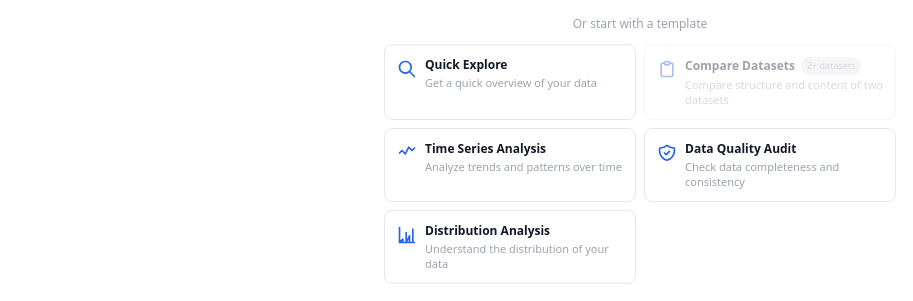
Test: ConversationTemplates — clicking a template shows prompts › shows a back button after selecting a template
Click the button with test id "conversation-template-quick-explore" at (510, 82), box [384,44,636,120]
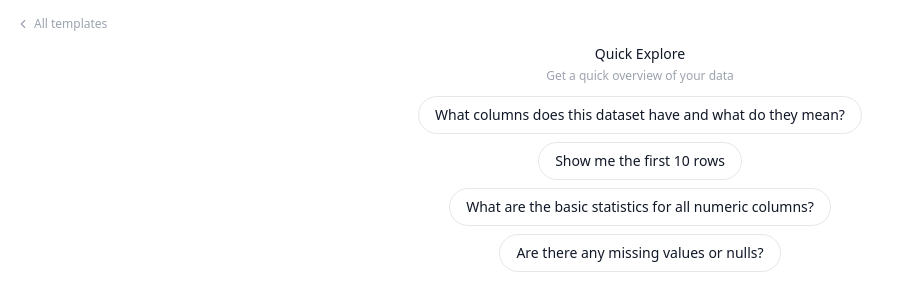
Expected: the button with test id "templates-back-btn" reads "All templates", [16,16,107,32]
